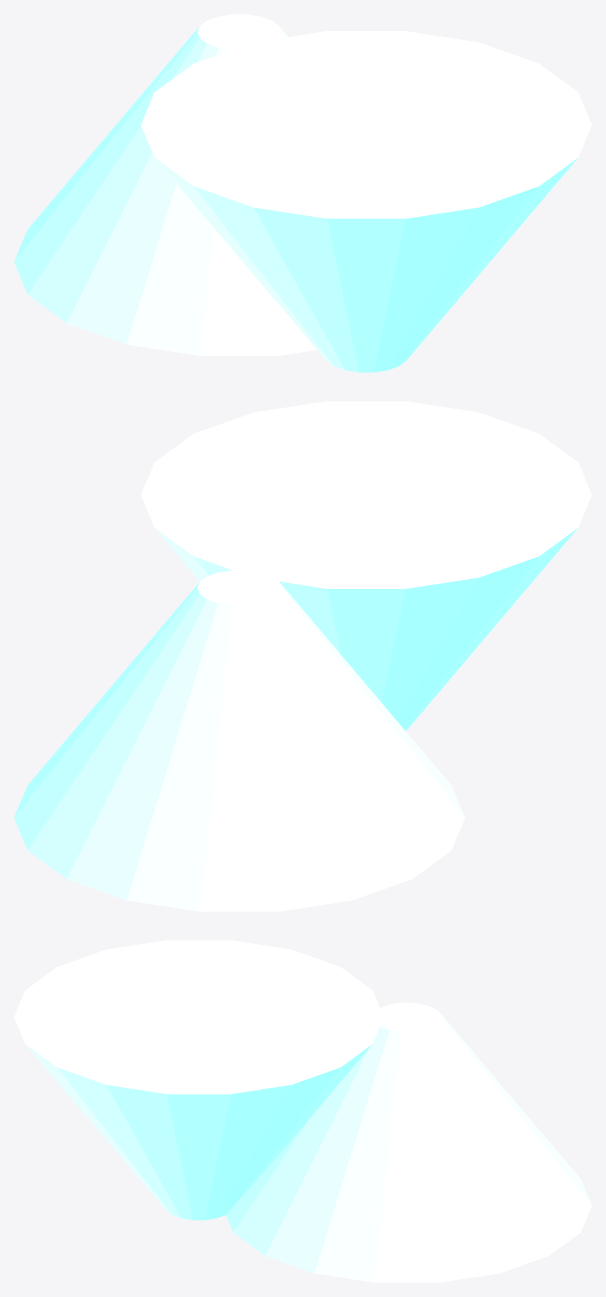
File: gem_generic.glb
The picture shows the model from 3 angles, top to bottom: view 1: azimuth 30°, elevation 25°; view 2: azimuth 150°, elevation 25°; view 3: azimuth 270°, elevation 25°; orthographic projection. The views are drawn at different scales.
Parts seen in each view (by area): view 1: gem_bottom, gem_top; view 2: gem_top, gem_bottom; view 3: gem_bottom, gem_top.
Part boxes in pixels (bbox=[...]): gem_bottom: bbox=[141, 31, 591, 372]; gem_top: bbox=[14, 14, 316, 355]; gem_top: bbox=[14, 570, 464, 911]; gem_bottom: bbox=[141, 401, 591, 730]; gem_bottom: bbox=[14, 940, 382, 1220]; gem_top: bbox=[226, 1002, 591, 1282].
Size of the model in its own units: 0.3151 by 0.18 by 0.5.
